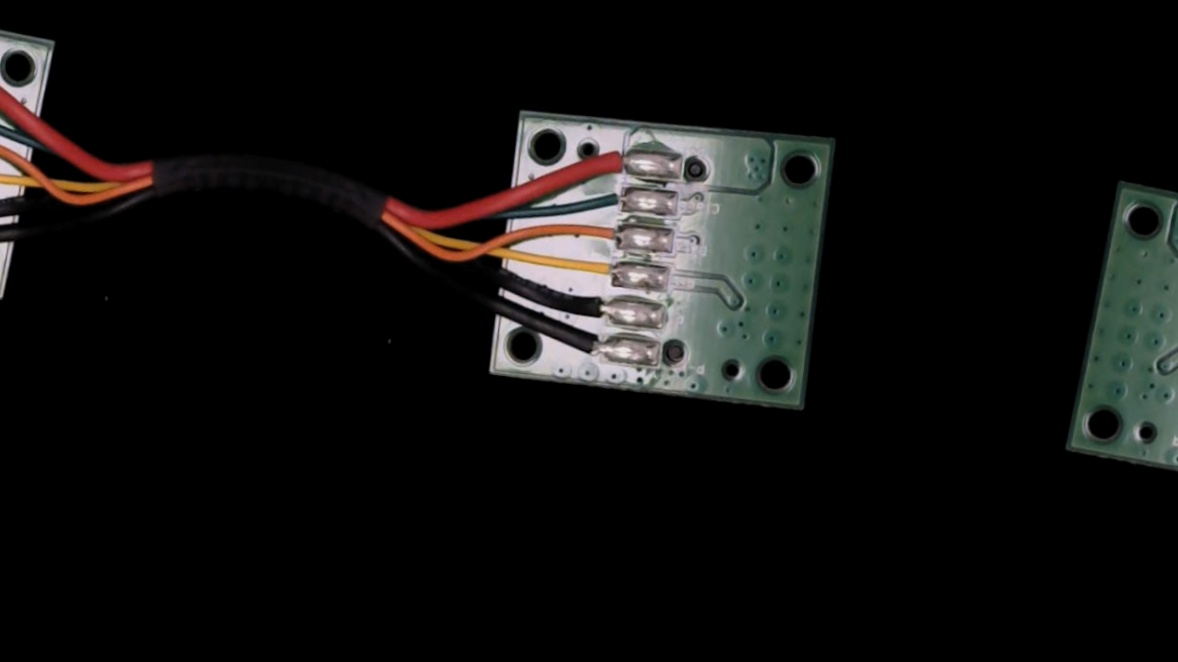Black: (555, 285, 630, 329)
Black1: (558, 327, 627, 369)
Green: (584, 178, 645, 216)
Orange: (566, 214, 637, 253)
Red: (575, 138, 648, 181)
Yellow: (557, 250, 634, 293)
